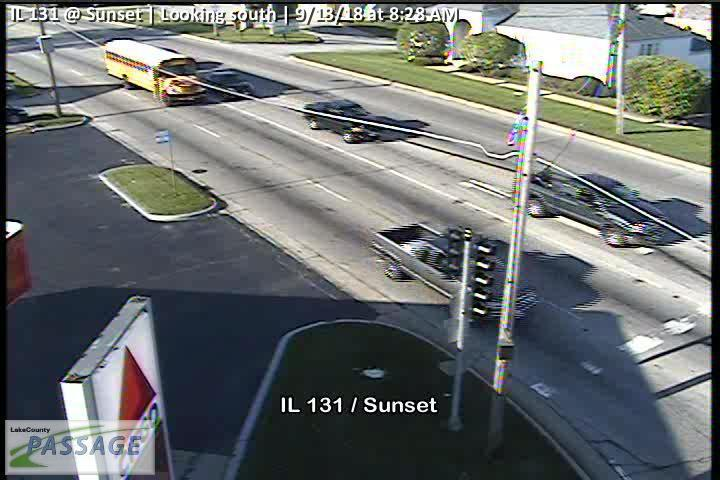Bus: (103, 37, 210, 105)
Sedan: (518, 165, 668, 247), (304, 99, 383, 141), (205, 68, 255, 99)
Truck: (367, 217, 538, 322)
